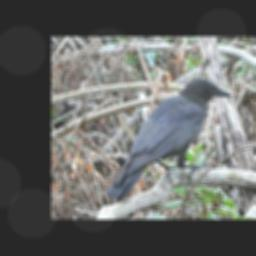Crow: (105, 77, 234, 205)
